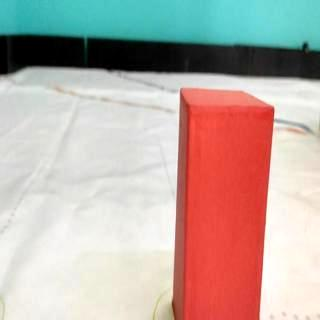redbox: (172, 86, 274, 320)
